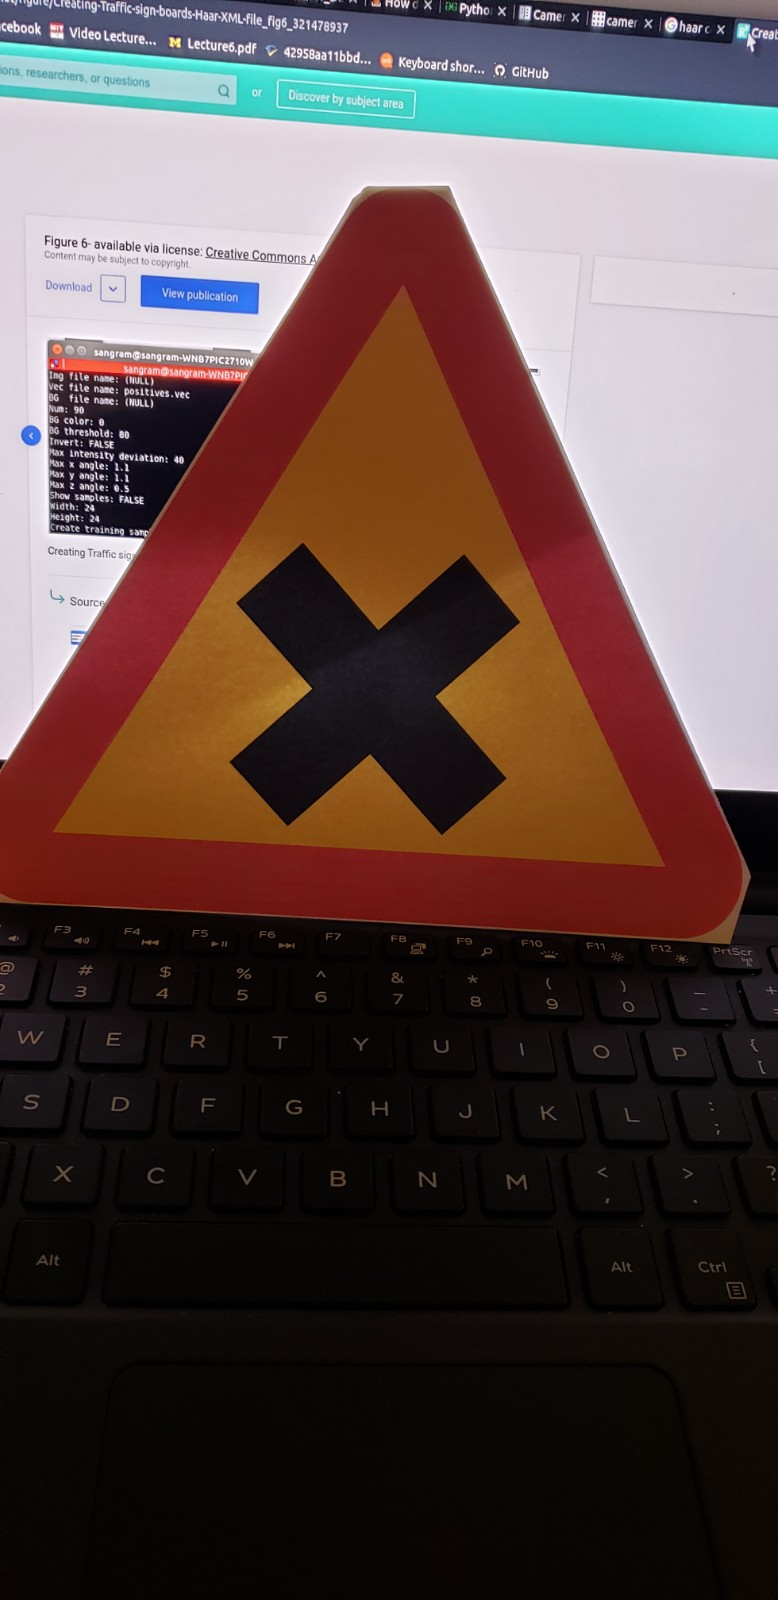junction: (7, 119, 758, 993)
